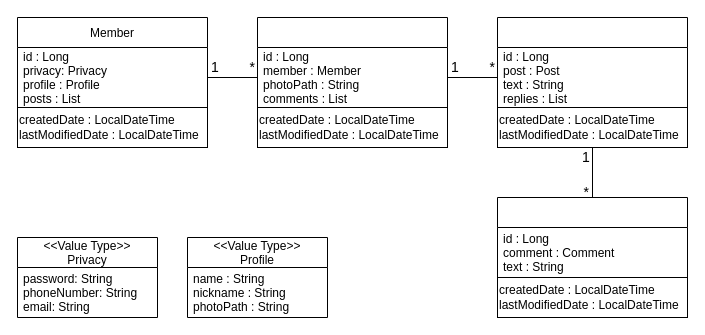
Some shapes in this 705 by 335 pixel diagram are drawn without their labels. The box of each missing label's shape, as (x1, y1, x2, y2) in pixels:
Comment: (496, 16, 688, 148)
Post: (256, 16, 448, 148)
Reply: (496, 196, 688, 318)
